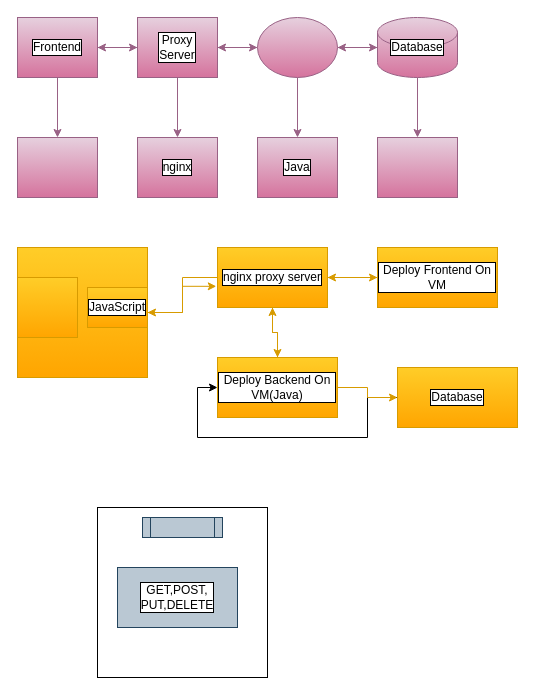
This 535x695 diagram has some shape labels left out. Here are the shapes that lost their labels. From the top down, the centre of each, then its label:
At (x=297, y=47): "Services (Backend Server)".
At (x=57, y=167): "Angular".
At (x=417, y=167): "MySQL, MongoDB".
At (x=47, y=307): "HTML, CSS, Material UI".
At (x=182, y=527): "Backend".
